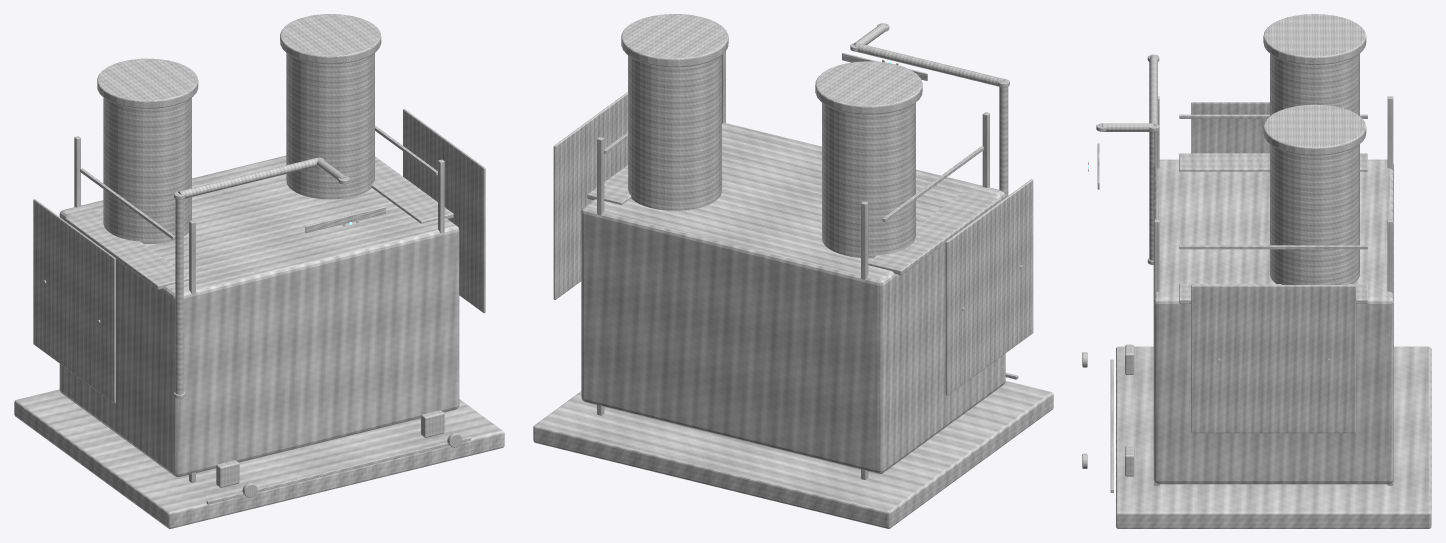
File: refinery_variant_a.glb
3 renders of one model, left to right at view 1: azimuth 30°, elevation 25°; view 2: azimuth 150°, elevation 25°; view 3: azimuth 270°, elevation 25°, orthographic. The views are drawn at different scales.
Visible parts, largest first — view 1: Industrial lower housing, Foundation skid, Side access panel, Process vessel.001, Process vessel, Side access panel.001, Vessel cap, Vessel cap.001, Service platform, Service platform.001, Process pipe, Process pipe.001 (+6 smaller); view 2: Industrial lower housing, Foundation skid, Side access panel, Process vessel.001, Process vessel, Side access panel.001, Vessel cap.001, Vessel cap, Service platform, Process pipe.001, Process pipe, Service platform.001 (+3 smaller); view 3: Industrial lower housing, Side access panel.001, Foundation skid, Process vessel.001, Vessel cap.001, Vessel cap, Process vessel, Side access panel, Service platform, Safety rail.001, Process pipe, Process pipe.001 (+7 smaller).
Boxes of the visible parts, box(x1,y1,x2,y2) form: Industrial lower housing: box(59, 155, 459, 477); Foundation skid: box(14, 389, 504, 528); Side access panel: box(33, 199, 115, 403); Process vessel.001: box(286, 53, 374, 199); Process vessel: box(103, 97, 191, 243); Side access panel.001: box(403, 109, 485, 313); Vessel cap: box(97, 58, 198, 108); Vessel cap.001: box(280, 14, 381, 64); Service platform: box(65, 210, 188, 289); Service platform.001: box(371, 156, 453, 223); Process pipe: box(175, 199, 183, 394); Process pipe.001: box(178, 157, 318, 198); Industrial lower housing: box(581, 123, 1005, 473); Foundation skid: box(533, 381, 1053, 528); Side access panel: box(945, 179, 1033, 395); Process vessel.001: box(628, 55, 721, 210); Process vessel: box(822, 103, 915, 258); Side access panel.001: box(553, 92, 627, 299); Vessel cap.001: box(621, 14, 728, 67); Vessel cap: box(815, 61, 922, 114); Service platform: box(868, 190, 999, 274); Process pipe.001: box(854, 43, 1005, 86); Process pipe: box(999, 87, 1008, 197); Service platform.001: box(587, 165, 631, 204); Industrial lower housing: box(1153, 159, 1393, 484); Side access panel.001: box(1191, 285, 1355, 433); Foundation skid: box(1116, 346, 1431, 528); Process vessel.001: box(1270, 144, 1359, 284); Vessel cap.001: box(1263, 104, 1366, 155); Vessel cap: box(1263, 14, 1366, 64); Process vessel: box(1270, 53, 1359, 115); Side access panel: box(1191, 102, 1269, 153); Service platform: box(1179, 153, 1367, 171); Safety rail.001: box(1179, 245, 1367, 249); Process pipe: box(1149, 131, 1154, 260); Process pipe.001: box(1149, 55, 1157, 125).
Size of what is drawn, in the model's own units: 10.29 by 9.41 by 8.14.
7 materials, 7 textured.
